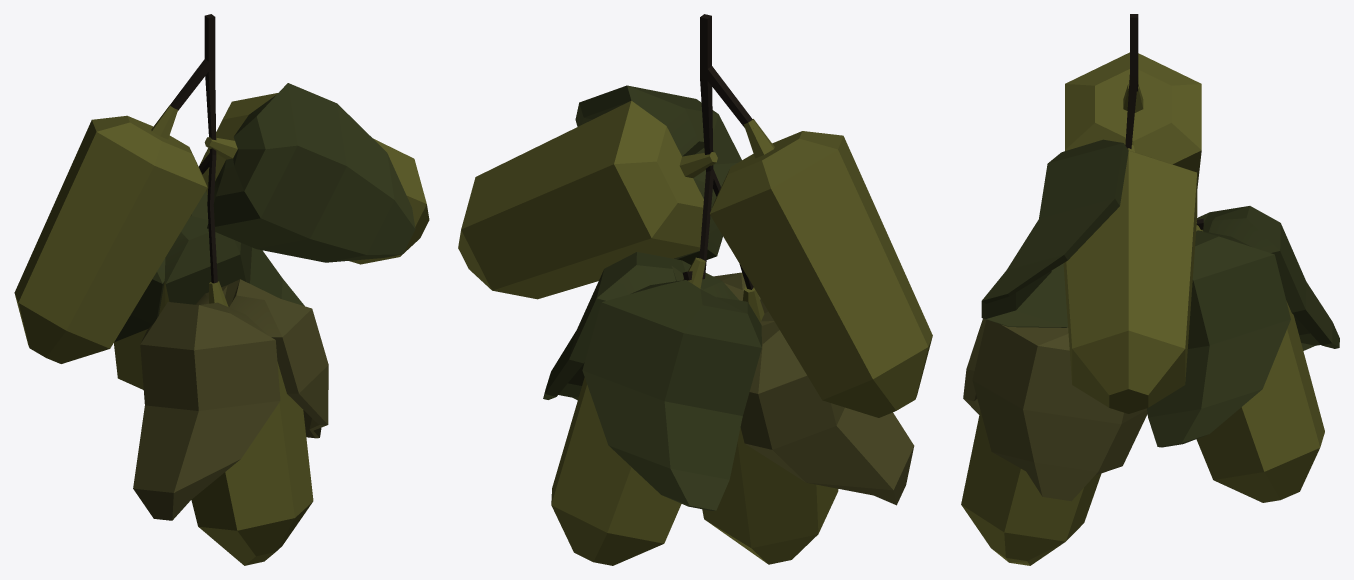
Rendered from 玉米捆_pCube13.FBX.
The picture shows the model from 3 angles, left to right: view 1: azimuth 30°, elevation 25°; view 2: azimuth 150°, elevation 25°; view 3: azimuth 270°, elevation 25°; orthographic projection. The views are drawn at different scales.
Visible parts, largest first — view 1: 玉米捆_pCube13; view 2: 玉米捆_pCube13; view 3: 玉米捆_pCube13.
Part boxes in pixels (x1=…): 玉米捆_pCube13: x1=14, y1=14, x2=429, y2=565; 玉米捆_pCube13: x1=458, y1=14, x2=932, y2=565; 玉米捆_pCube13: x1=961, y1=14, x2=1339, y2=565.
Size of the model in its own units: 36.33 by 26.99 by 43.54.
